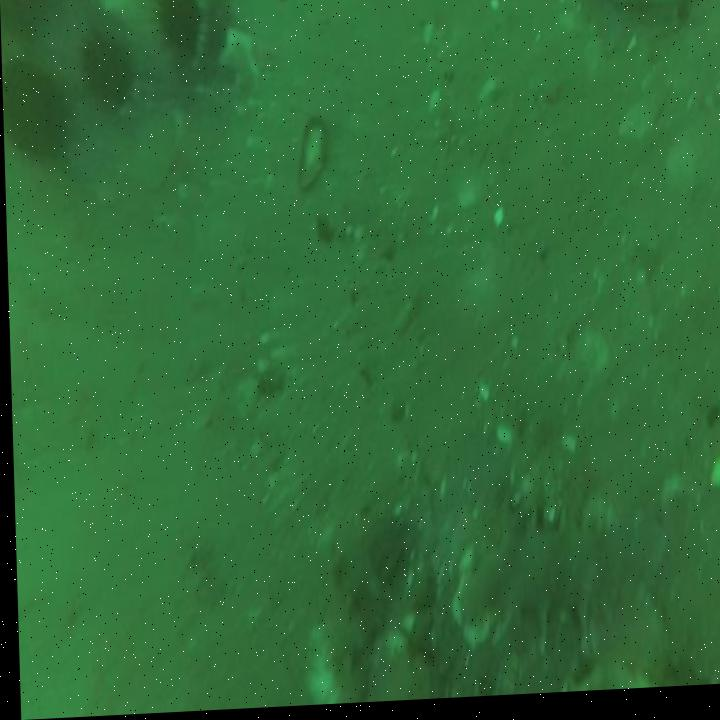echinus: (1, 36, 83, 173), (71, 14, 145, 123), (151, 0, 244, 84)
holothurian: (447, 487, 673, 676)
starfish: (214, 26, 269, 110)
